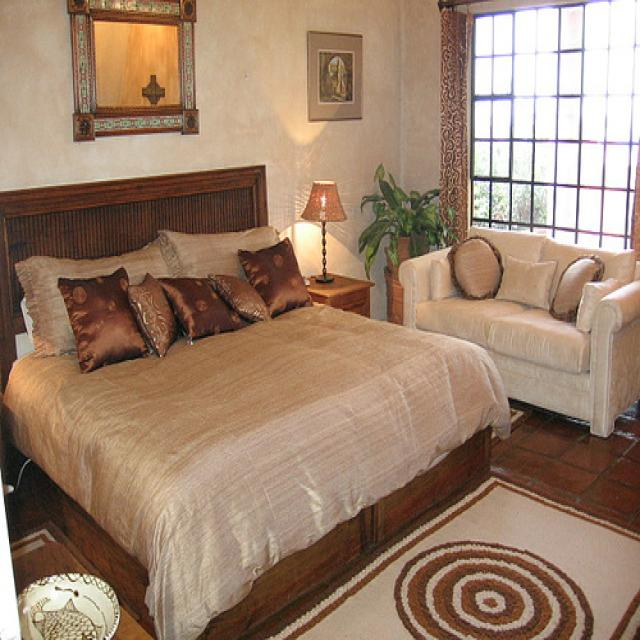pottedplant: (355, 160, 461, 278)
sofa: (395, 223, 637, 438)
